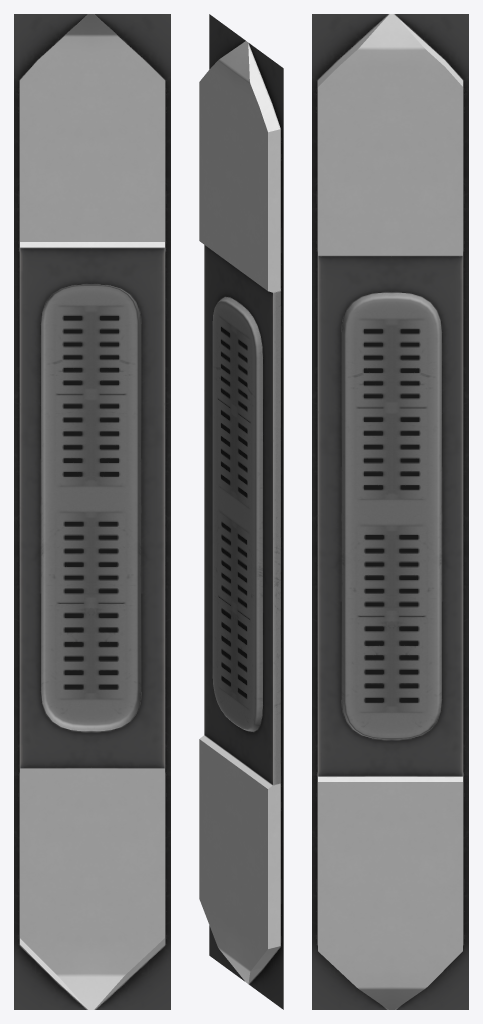
File: SM_MWall03-50x350-1.FBX
3 views of the same model, side by side, from view 1: azimuth 90°, elevation 25°; view 2: azimuth 210°, elevation 25°; view 3: azimuth 270°, elevation 25° (orthographic). The views are drawn at different scales.
Parts seen in each view (by area): view 1: SM_MWall03-50x350-1; view 2: SM_MWall03-50x350-1; view 3: SM_MWall03-50x350-1.
Boxes of the visible parts, x1,y1,x2,y2 form: SM_MWall03-50x350-1: [14, 14, 170, 1009]; SM_MWall03-50x350-1: [199, 14, 283, 1009]; SM_MWall03-50x350-1: [312, 14, 468, 1009].
Size of what is drawn, in the model's own units: 5 by 50 by 350.
